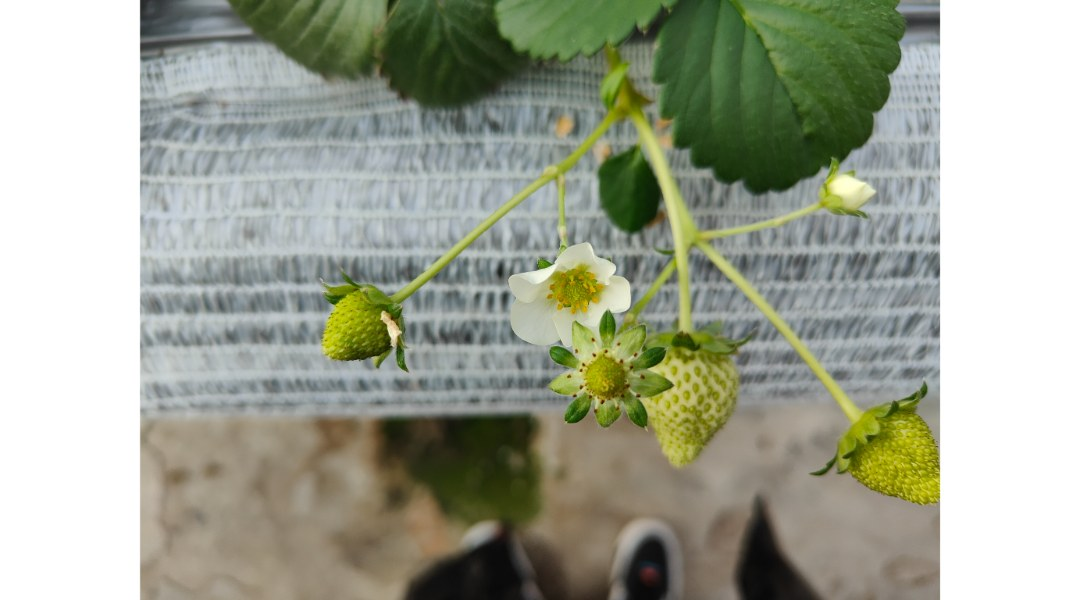berry: (632, 327, 754, 480), (832, 388, 961, 507), (319, 280, 414, 378)
flower: (556, 308, 666, 446), (494, 251, 628, 353), (819, 153, 888, 241)
strain: (407, 122, 614, 285), (705, 256, 869, 412), (637, 118, 693, 227), (665, 184, 691, 337), (705, 202, 813, 232)
